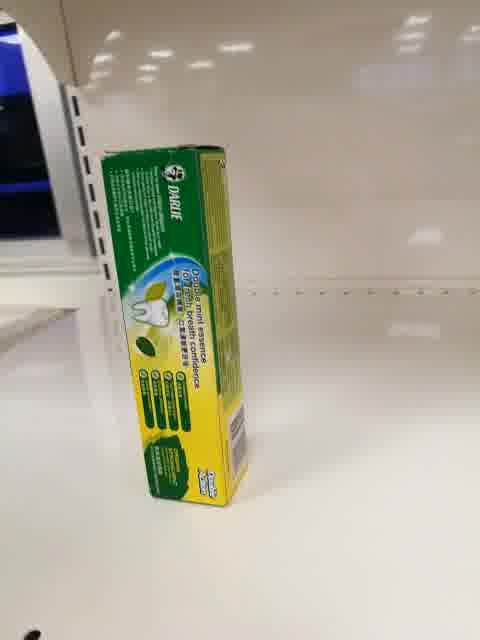toothpaste: (101, 143, 247, 508)
